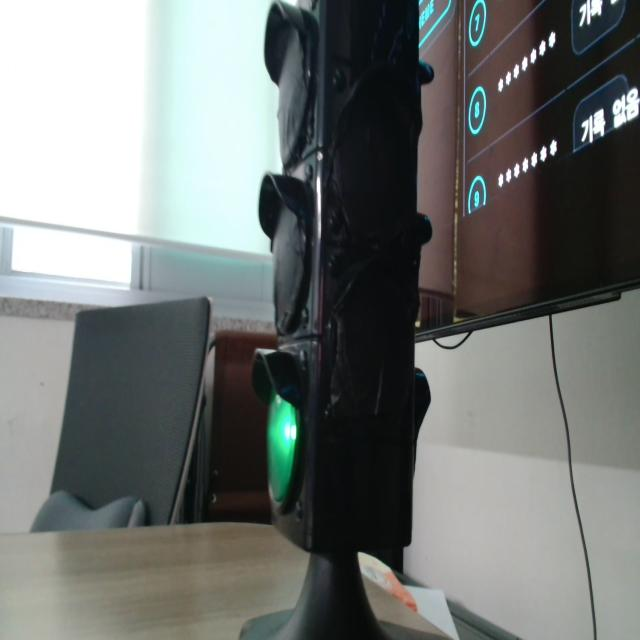green_light: (267, 392, 298, 502)
